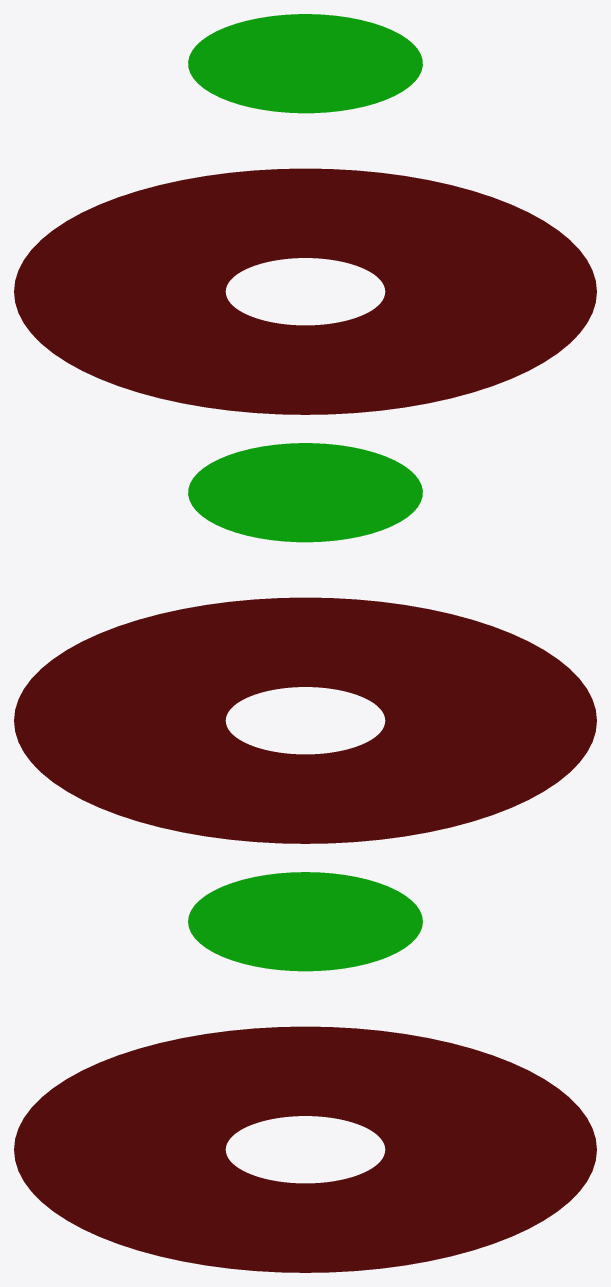
Rendered from FountainFX_surface.glb.
The picture shows the model from 3 angles, top to bottom: view 1: azimuth 30°, elevation 25°; view 2: azimuth 150°, elevation 25°; view 3: azimuth 270°, elevation 25°; orthographic projection.
Parts seen in each view (by area): view 1: FountainFX_surface; view 2: FountainFX_surface; view 3: FountainFX_surface.
Part boxes in pixels (x1,y1,x2,y2): FountainFX_surface: (14,14,596,414); FountainFX_surface: (14,443,596,843); FountainFX_surface: (14,872,596,1272).
Size of the model in its own units: 0.804 by 0.347 by 0.804.
